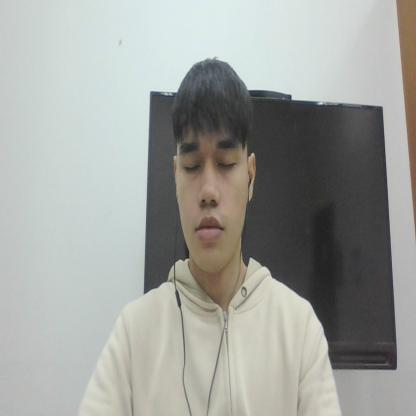Closed-Eyes: (176, 134, 245, 184)
